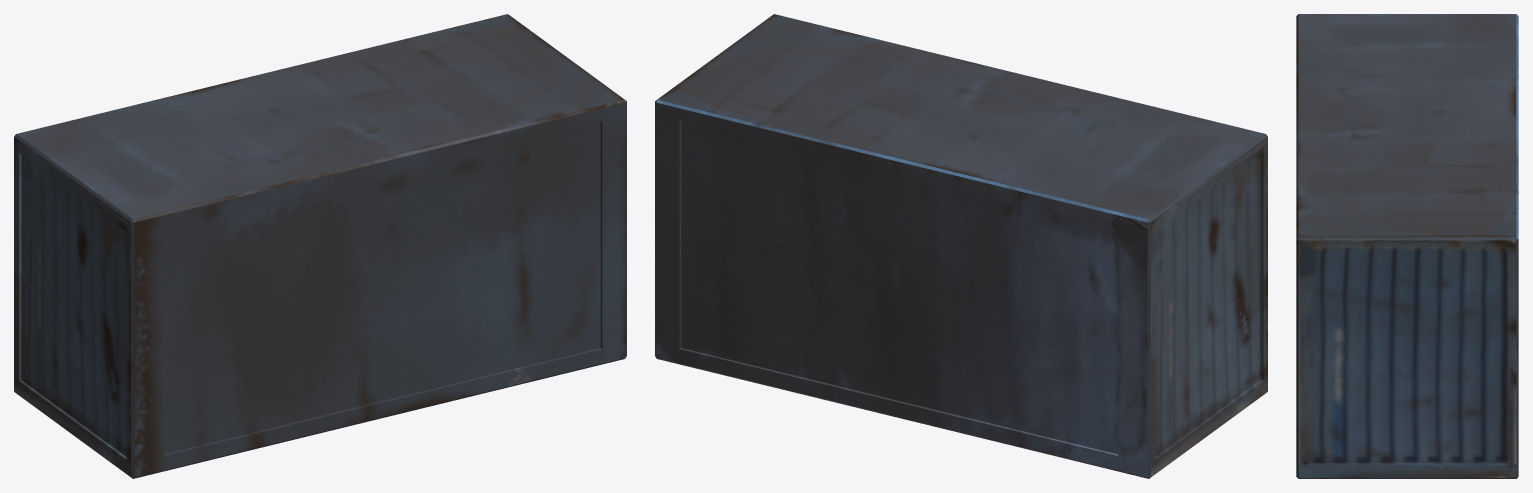
The model's file is storage_container.fbx.
3 renders of one model, left to right at view 1: azimuth 30°, elevation 25°; view 2: azimuth 150°, elevation 25°; view 3: azimuth 270°, elevation 25°, orthographic. The views are drawn at different scales.
Visible parts, largest first — view 1: pCube1; view 2: pCube1; view 3: pCube1.
Part boxes in pixels (x1,y1,x2,y2): pCube1: (14,14,626,478); pCube1: (655,14,1267,478); pCube1: (1296,14,1518,478).
Size of the model in its own units: 986 by 493 by 411.
